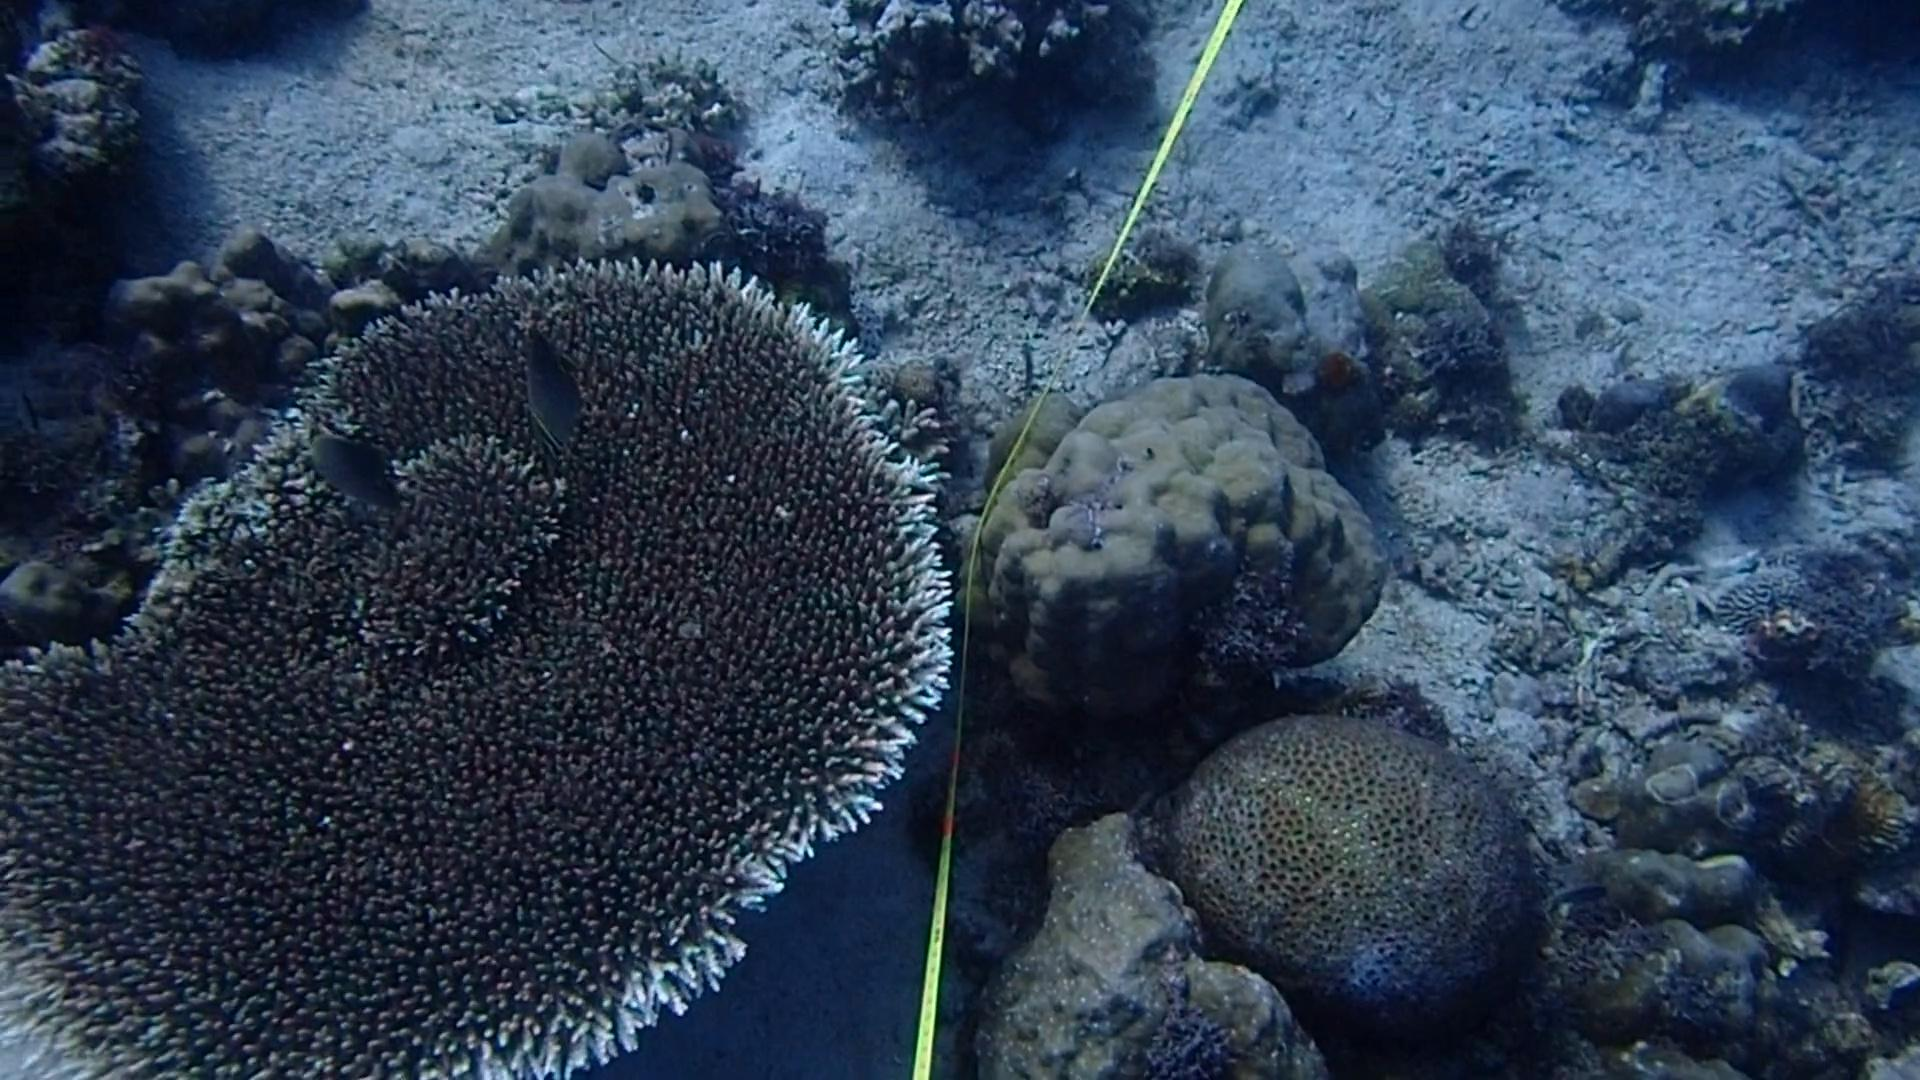Dark Blue Dory: (500, 316, 597, 464), (295, 427, 410, 526)
Light Fish: (1549, 868, 1615, 927)
